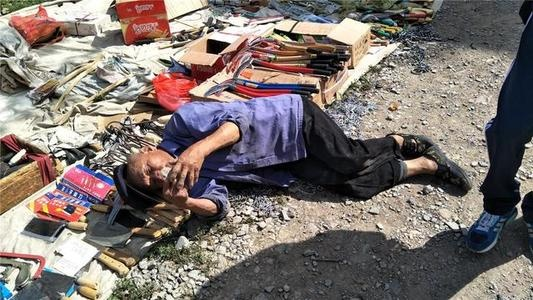falling: (102, 87, 480, 272)
